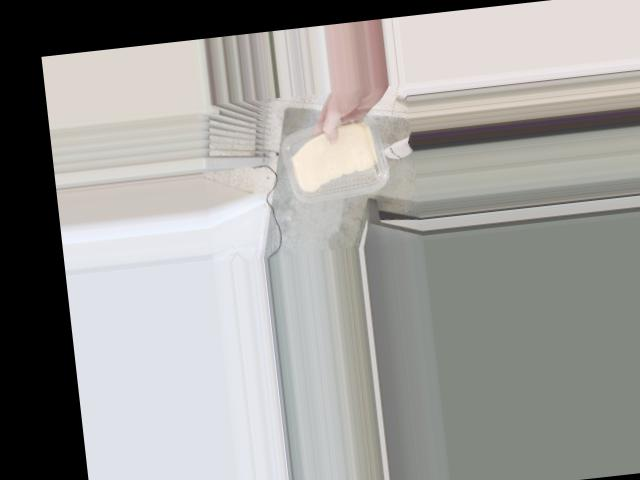cheese: (280, 114, 389, 198)
